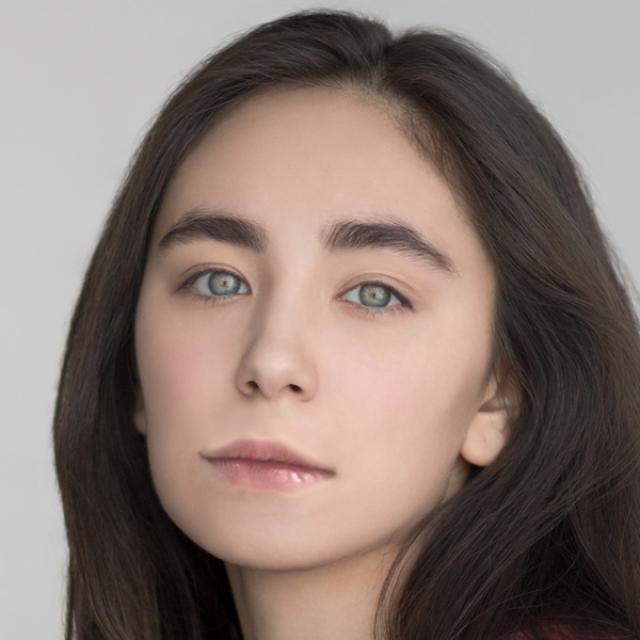face: (140, 88, 518, 560)
